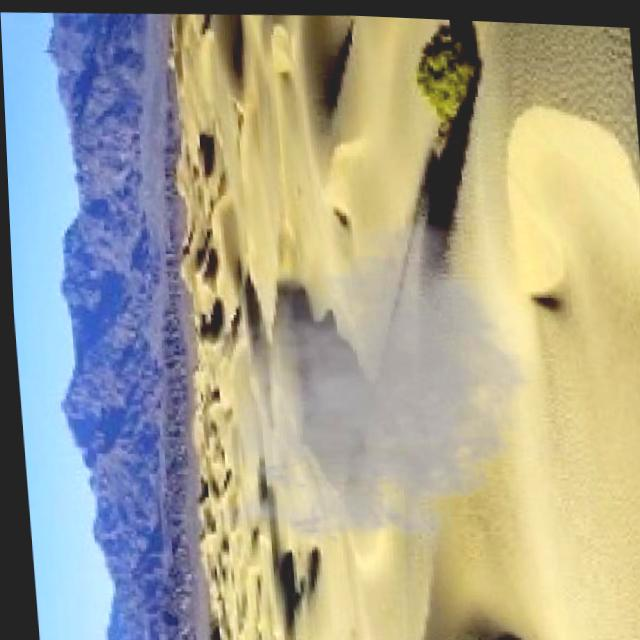Smoke: (178, 205, 559, 557)
